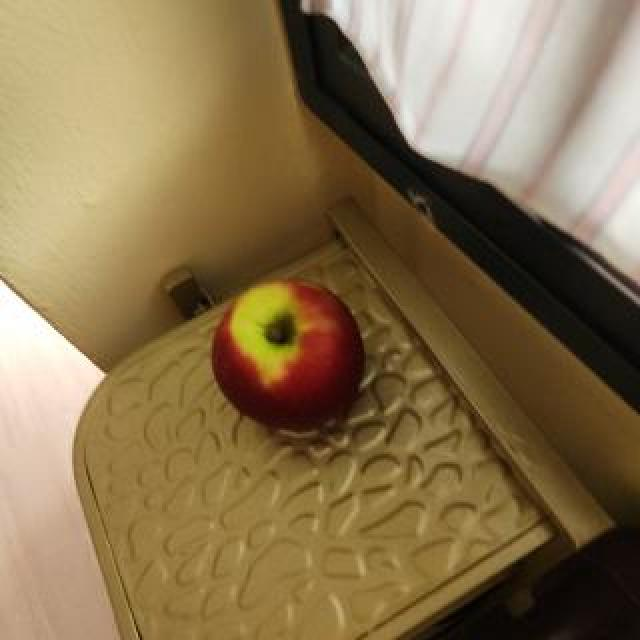Fresh Apple: (212, 287, 352, 424)
